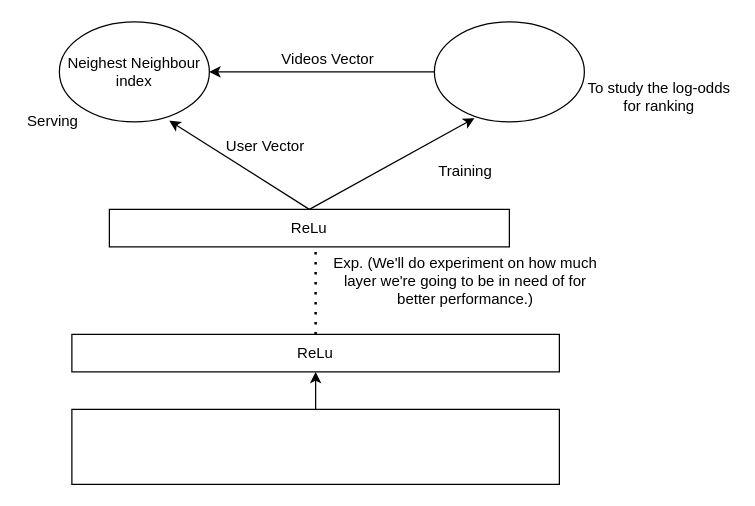
This 755x506 diagram has some shape labels left out. The centre of each missing label's shape, as x and y in pixels:
"Vectors created from Candidate generation/User History/Videos Features" goes at point (315, 446).
"Weighted Logistic Regression" goes at point (508, 71).
